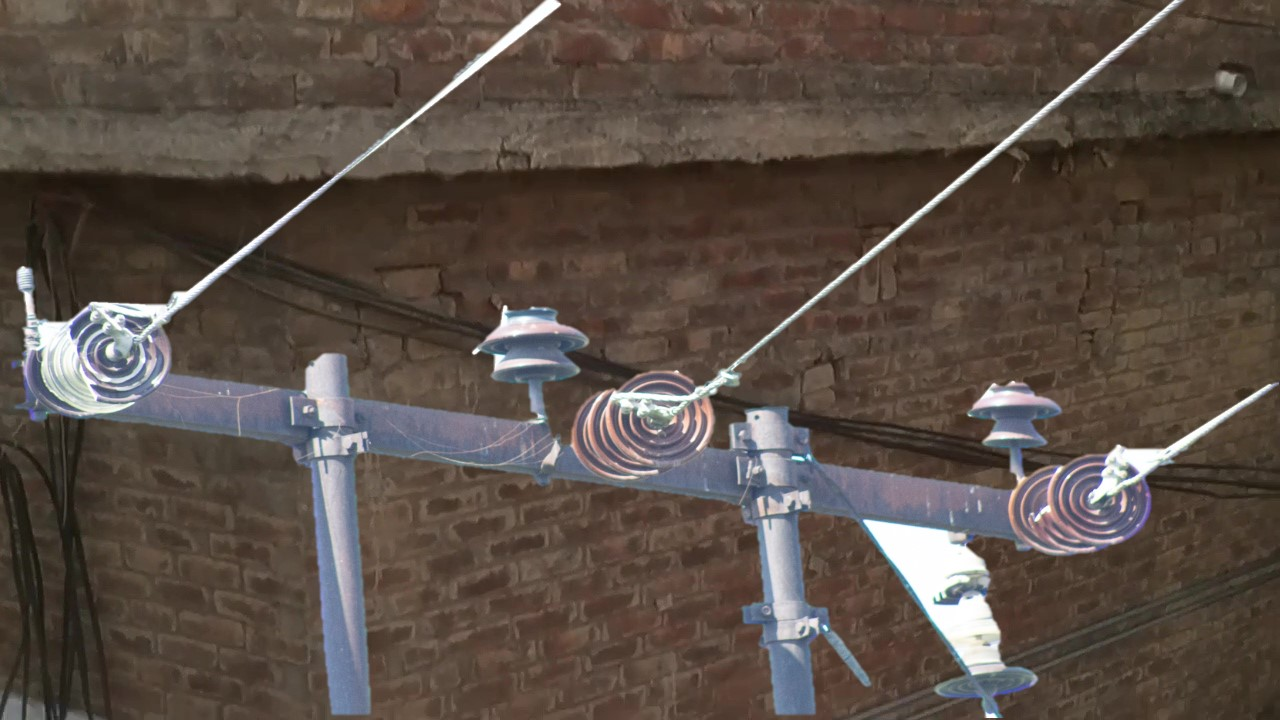defect_disc: (67, 292, 176, 405)
insulator_disc: (599, 361, 722, 469), (1042, 442, 1159, 555)
